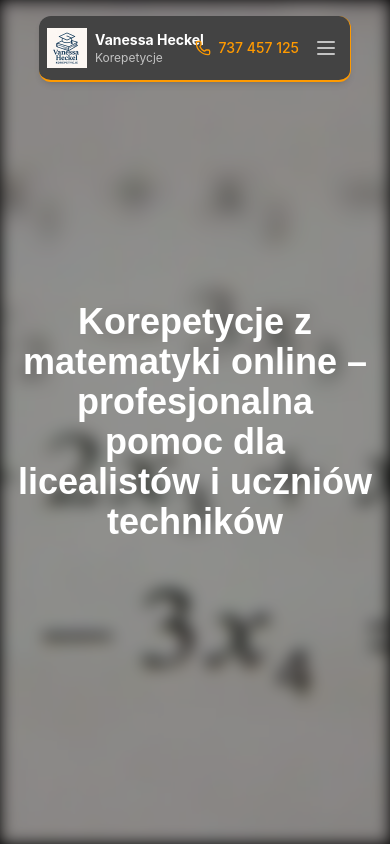
Test: menu mobilne rozwija się i zwija po wyborze pozycji
Later steps or results of the test are not shown.
Click the button named "Menu" at (326, 48), box [310, 32, 342, 64]
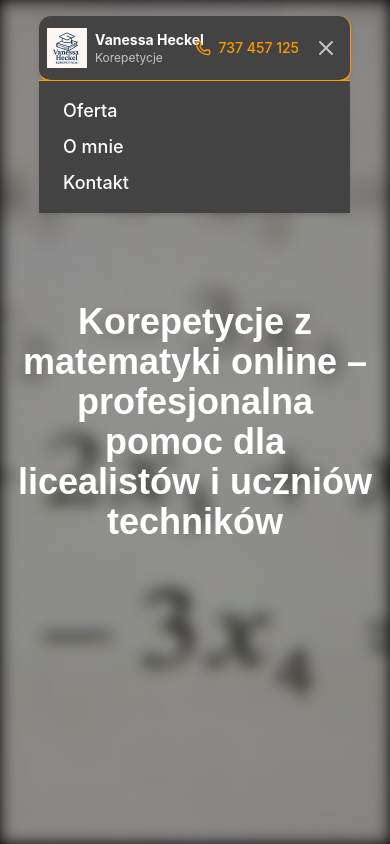
Expected: the button named "Menu" is expanded, [310, 32, 342, 64]
